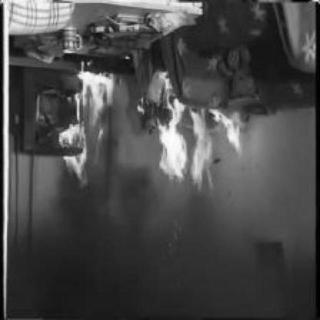Smoke: (16, 230, 308, 316)
